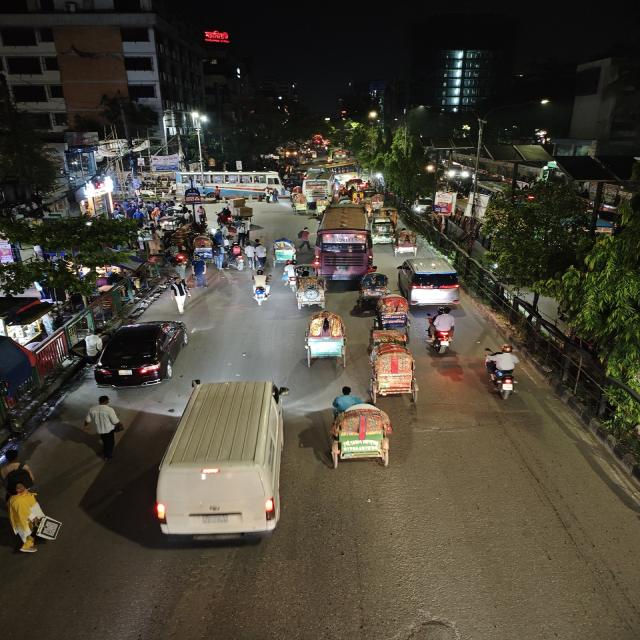bus: (313, 204, 377, 280), (206, 173, 283, 201), (302, 176, 333, 196)
car: (151, 376, 294, 554), (94, 316, 192, 392), (395, 254, 465, 306)
cng: (371, 217, 398, 244)
motorcycle: (481, 347, 527, 403), (424, 307, 460, 357), (246, 269, 275, 305), (168, 245, 191, 269)
pedestrian: (1, 481, 48, 557), (82, 394, 125, 459), (227, 240, 248, 271), (190, 254, 208, 286), (250, 239, 268, 269), (292, 226, 314, 249), (210, 244, 227, 270), (264, 187, 278, 204)
rickshaw: (318, 386, 400, 472), (366, 338, 422, 405), (298, 308, 352, 369), (286, 266, 328, 312), (374, 294, 411, 332), (356, 270, 390, 300), (390, 228, 422, 256), (272, 237, 298, 266), (192, 233, 216, 263), (230, 203, 256, 223), (289, 192, 309, 214), (303, 196, 325, 216), (306, 194, 330, 211)
